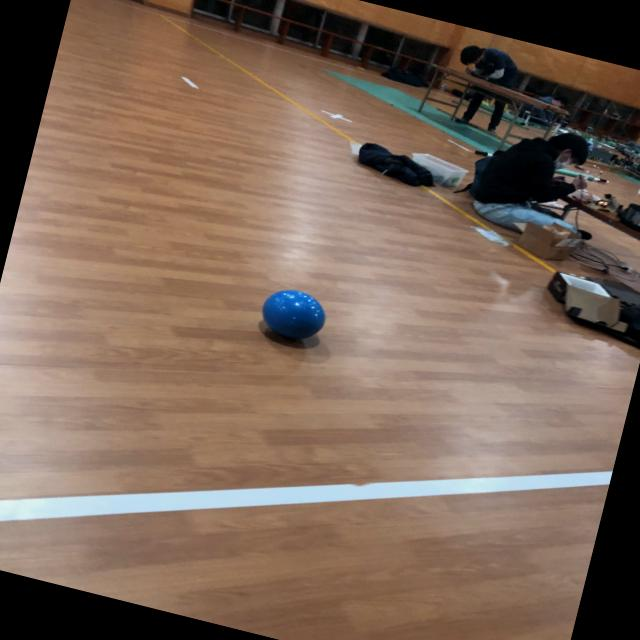blue_ball: (249, 280, 338, 349)
